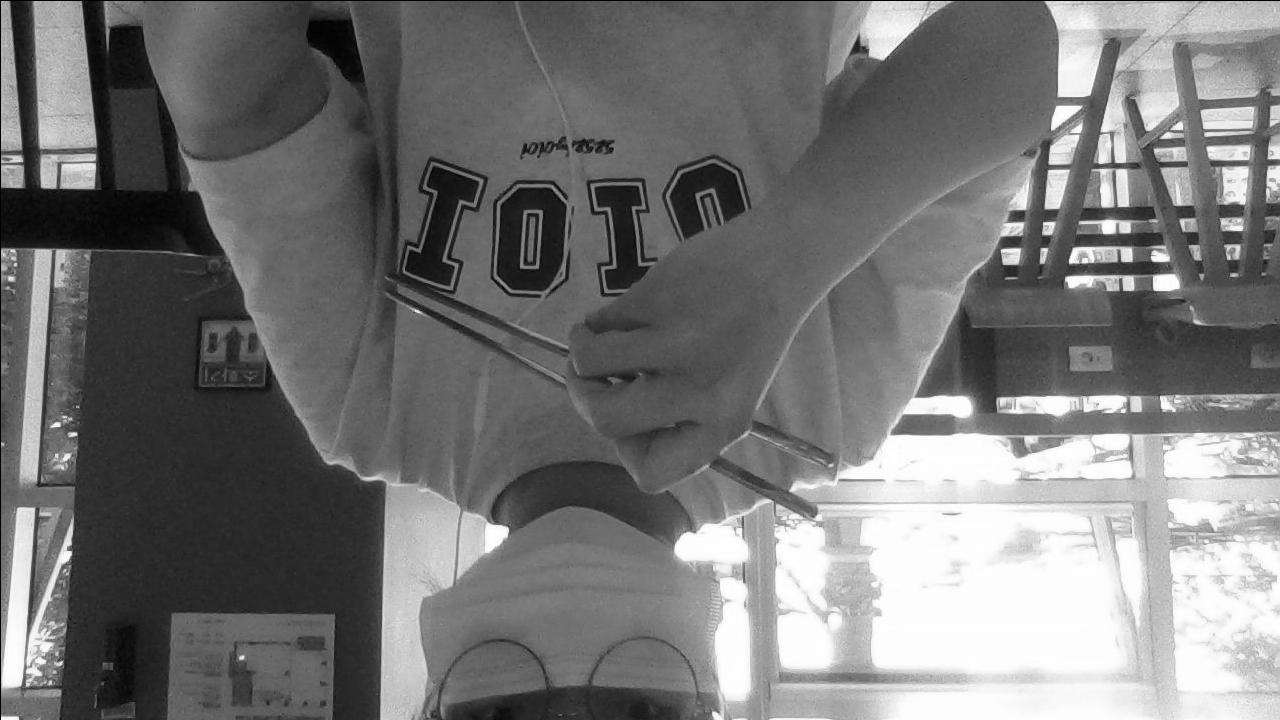chopstick: (378, 288, 818, 519), (378, 265, 839, 469)
hand: (559, 217, 830, 493)
